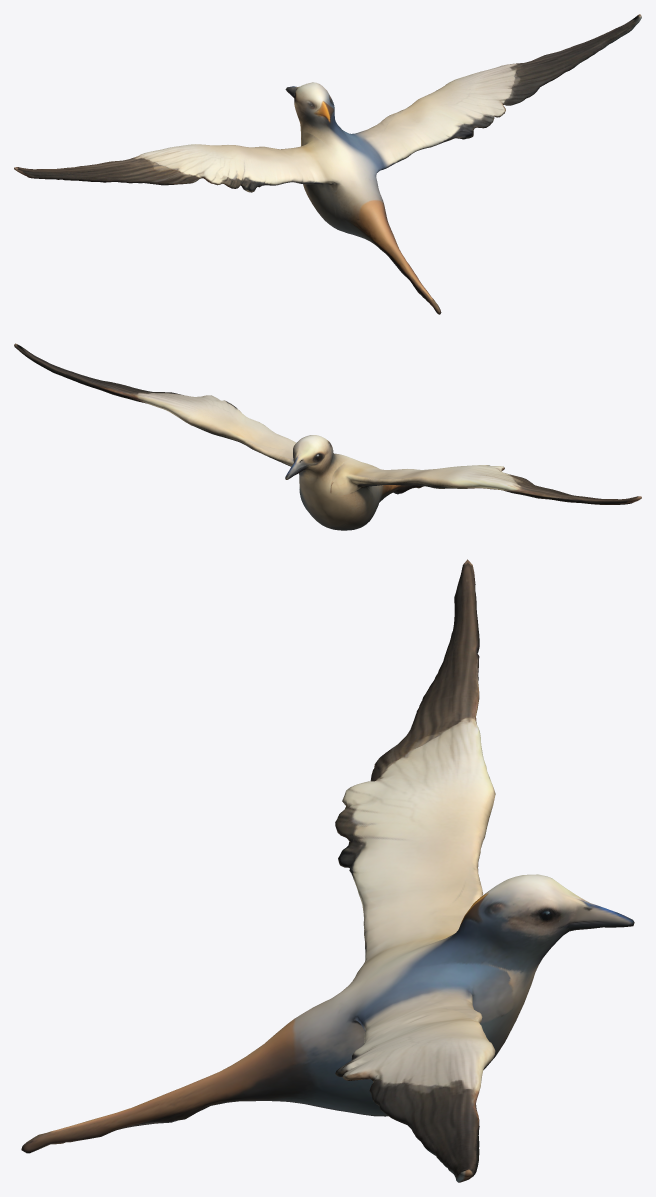
The model's file is birb.glb.
The picture shows the model from 3 angles, top to bottom: view 1: azimuth 30°, elevation 25°; view 2: azimuth 150°, elevation 25°; view 3: azimuth 270°, elevation 25°; orthographic projection. The views are drawn at different scales.
Size of the model in its own units: 2.01 by 0.4387 by 0.8493.
Materials: 1 (1 with a texture image).
